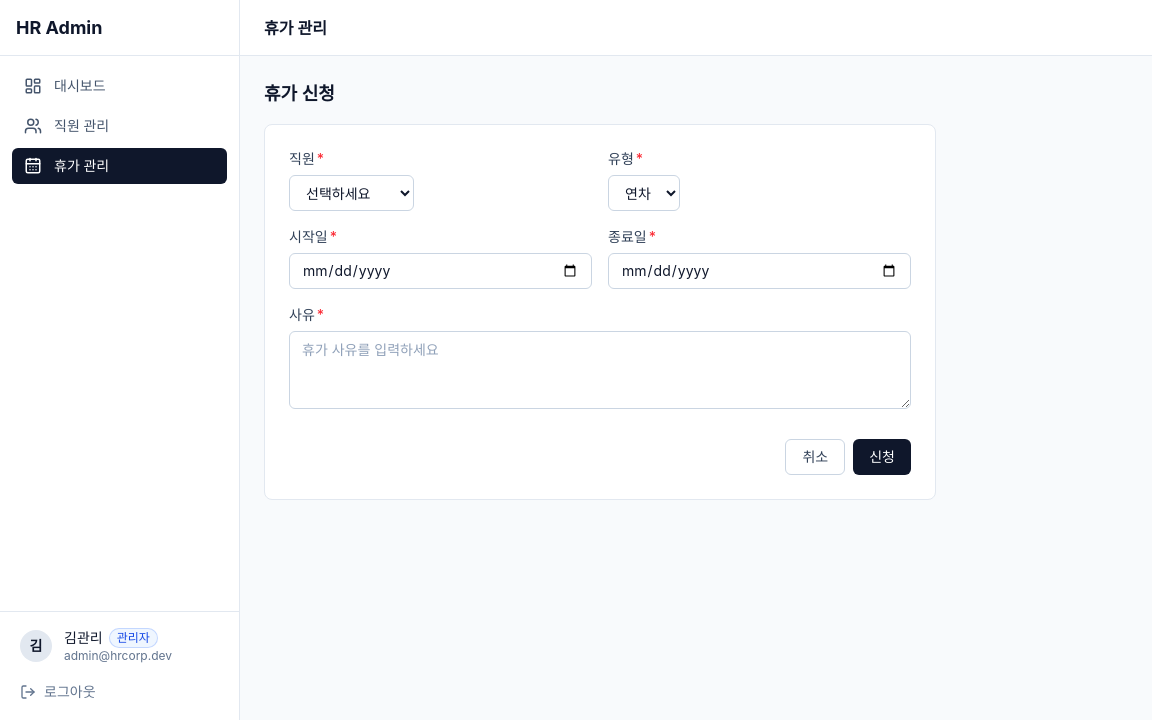
Test: LeaveCreatePage 잔여 연차 › 잔여 조회가 실패해도 서버가 초과 신청을 400으로 막는다
Select "조우진 (차장)" in the 1st dropdown at (352, 193), box x1=289 y1=175 x2=414 y2=211
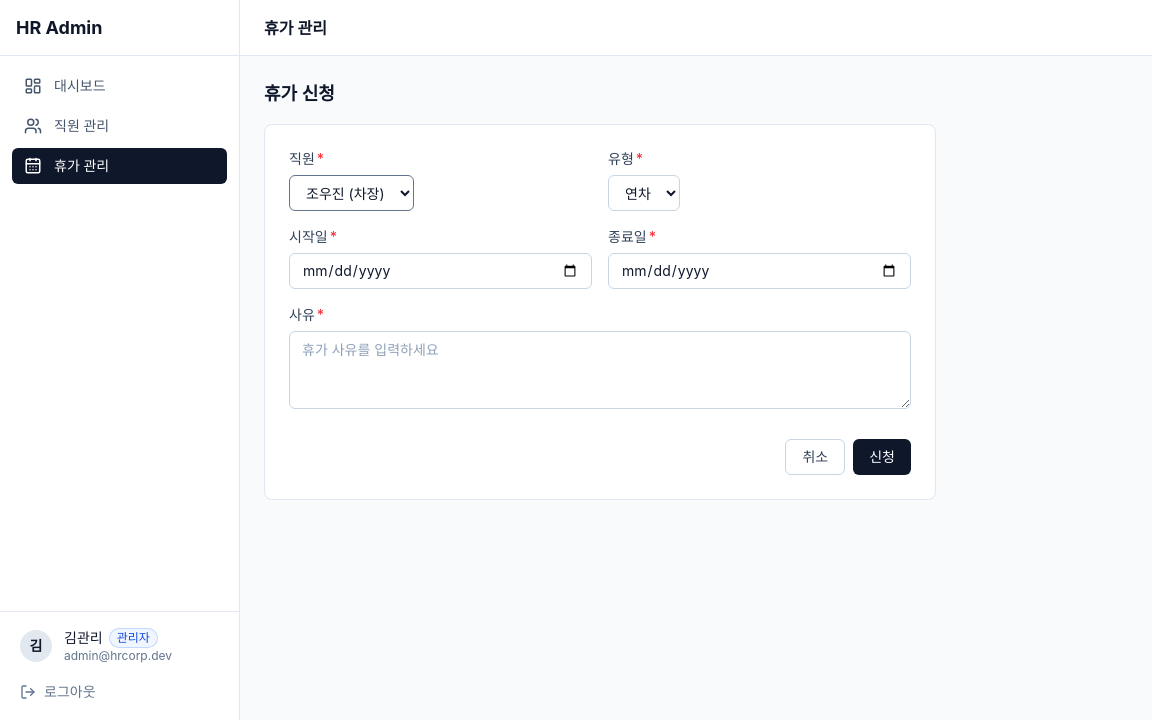
Type "2026-09-01" into the date field labelled "시작일*".
click(440, 271); type("2026-09-01")  # box x1=289 y1=253 x2=592 y2=289
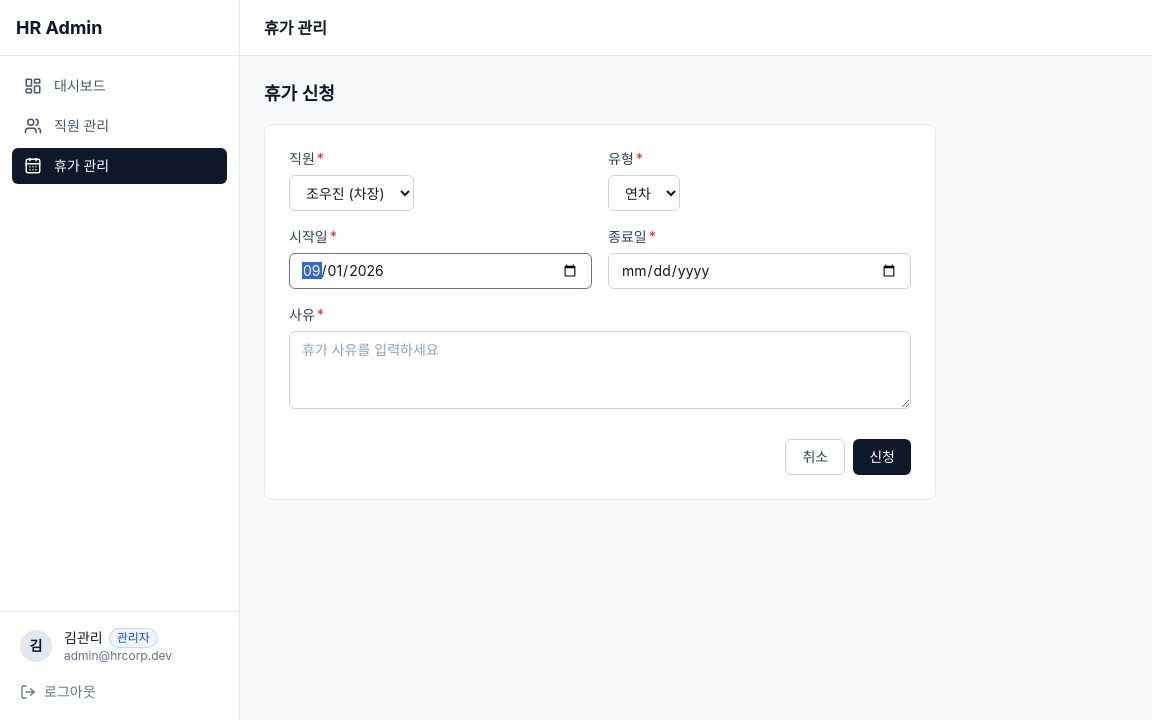
Type "2026-09-30" into the date field labelled "종료일*".
click(760, 271); type("2026-09-30")  # box x1=608 y1=253 x2=911 y2=289
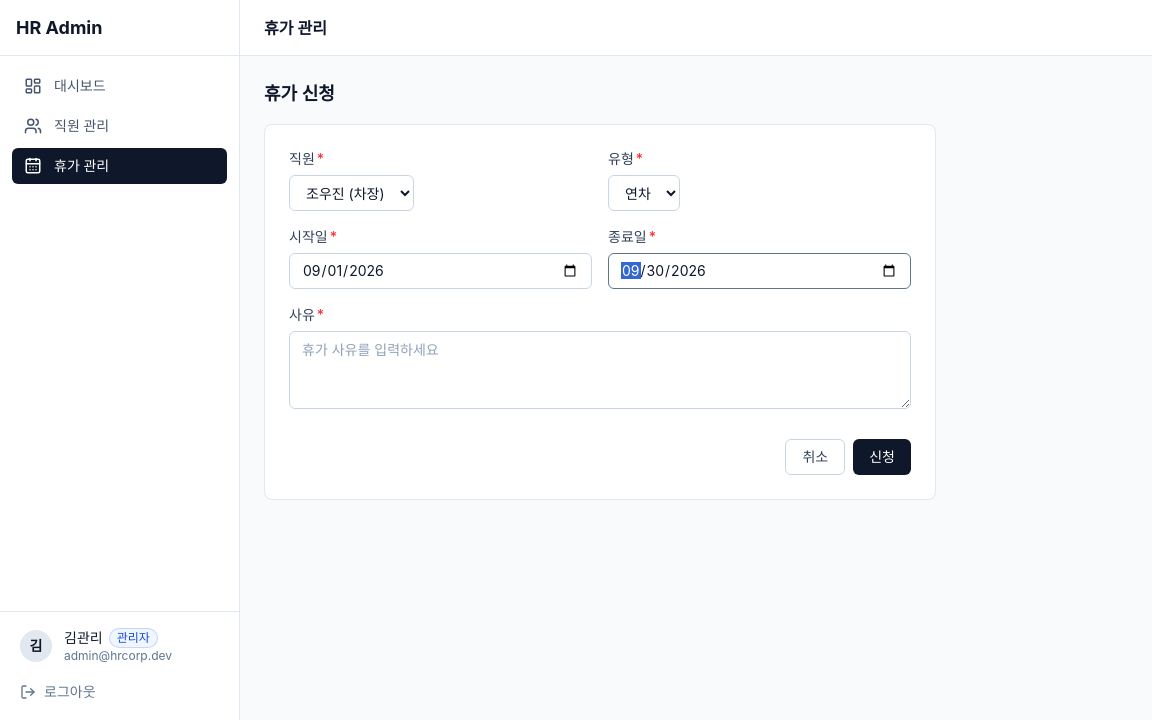
Type "가족 여행" into the text box labelled "사유*".
click(600, 370); type("가족 여행")  # box x1=289 y1=331 x2=911 y2=409
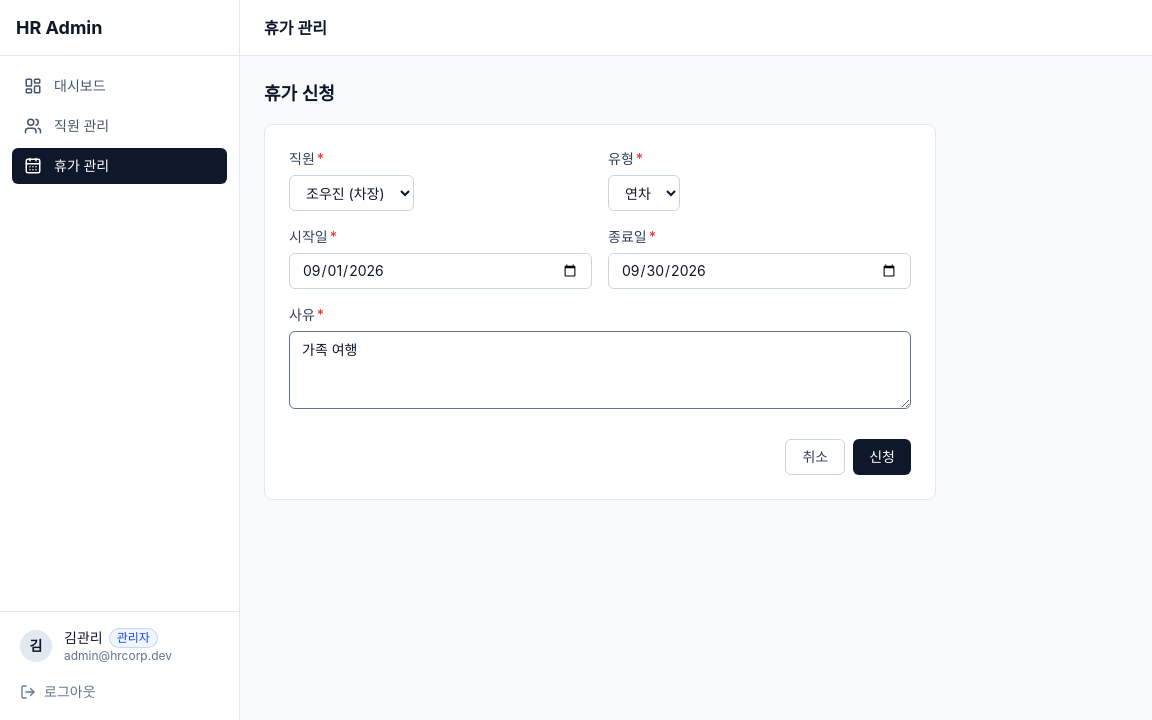
Click the button "신청".
click(882, 457)  # box x1=853 y1=439 x2=911 y2=475
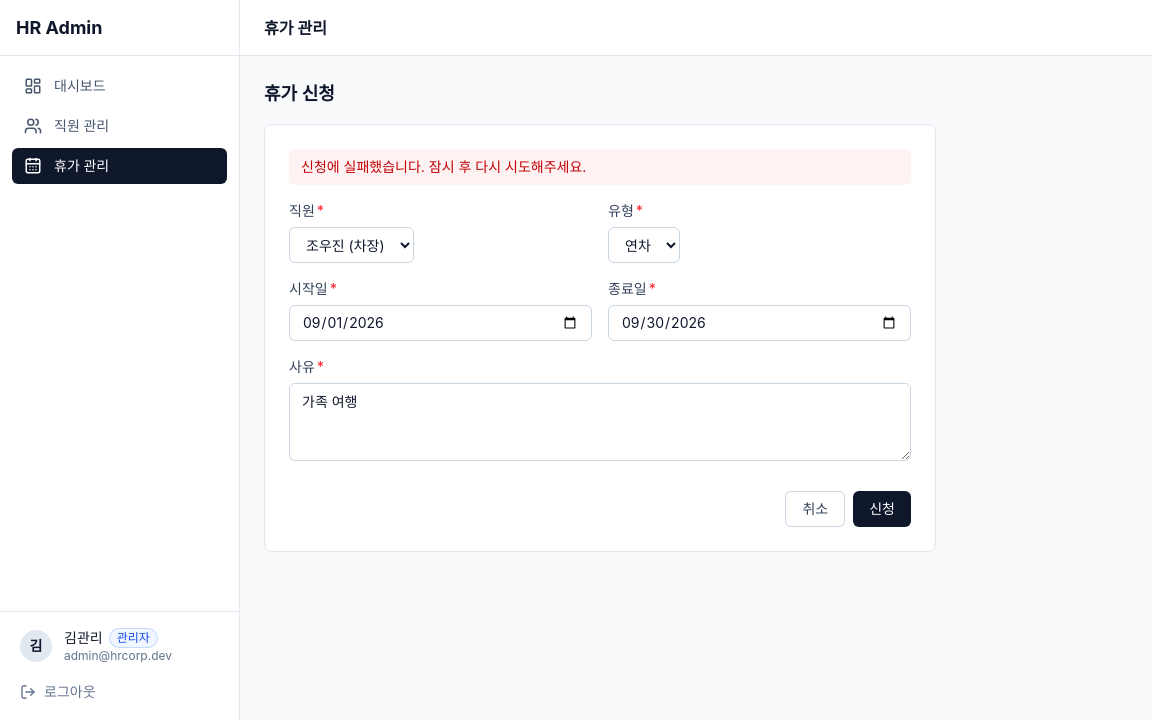
Now the text "신청에 실패했습니다. 잠시 후 다시 시도해주세요." is shown, box x1=289 y1=149 x2=911 y2=185
